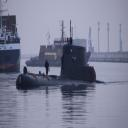submarine: (18, 19, 108, 90)
